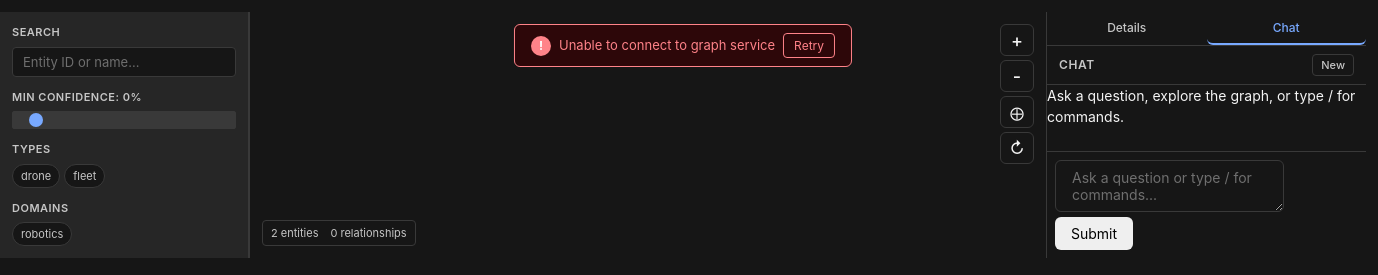
it: DataView GraphQL Integration › Retry functionality › should display new error if retry fails
Expected: the text "Unable to connect to graph service" is shown, [559,36,775,55]
What coordinates should you click on to do the following:
click the button "Retry"
I would click on:
 (809, 46)
Its box is [783,33,835,58].
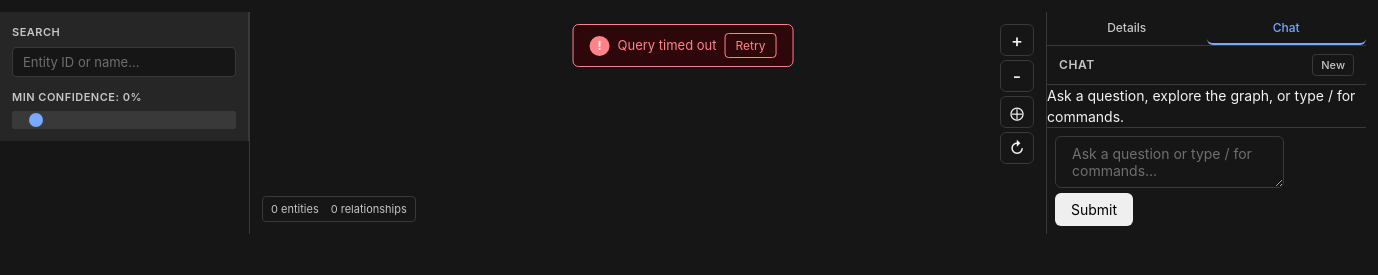
Expected: the text "Query timed out" is shown, [618,36,716,55]
